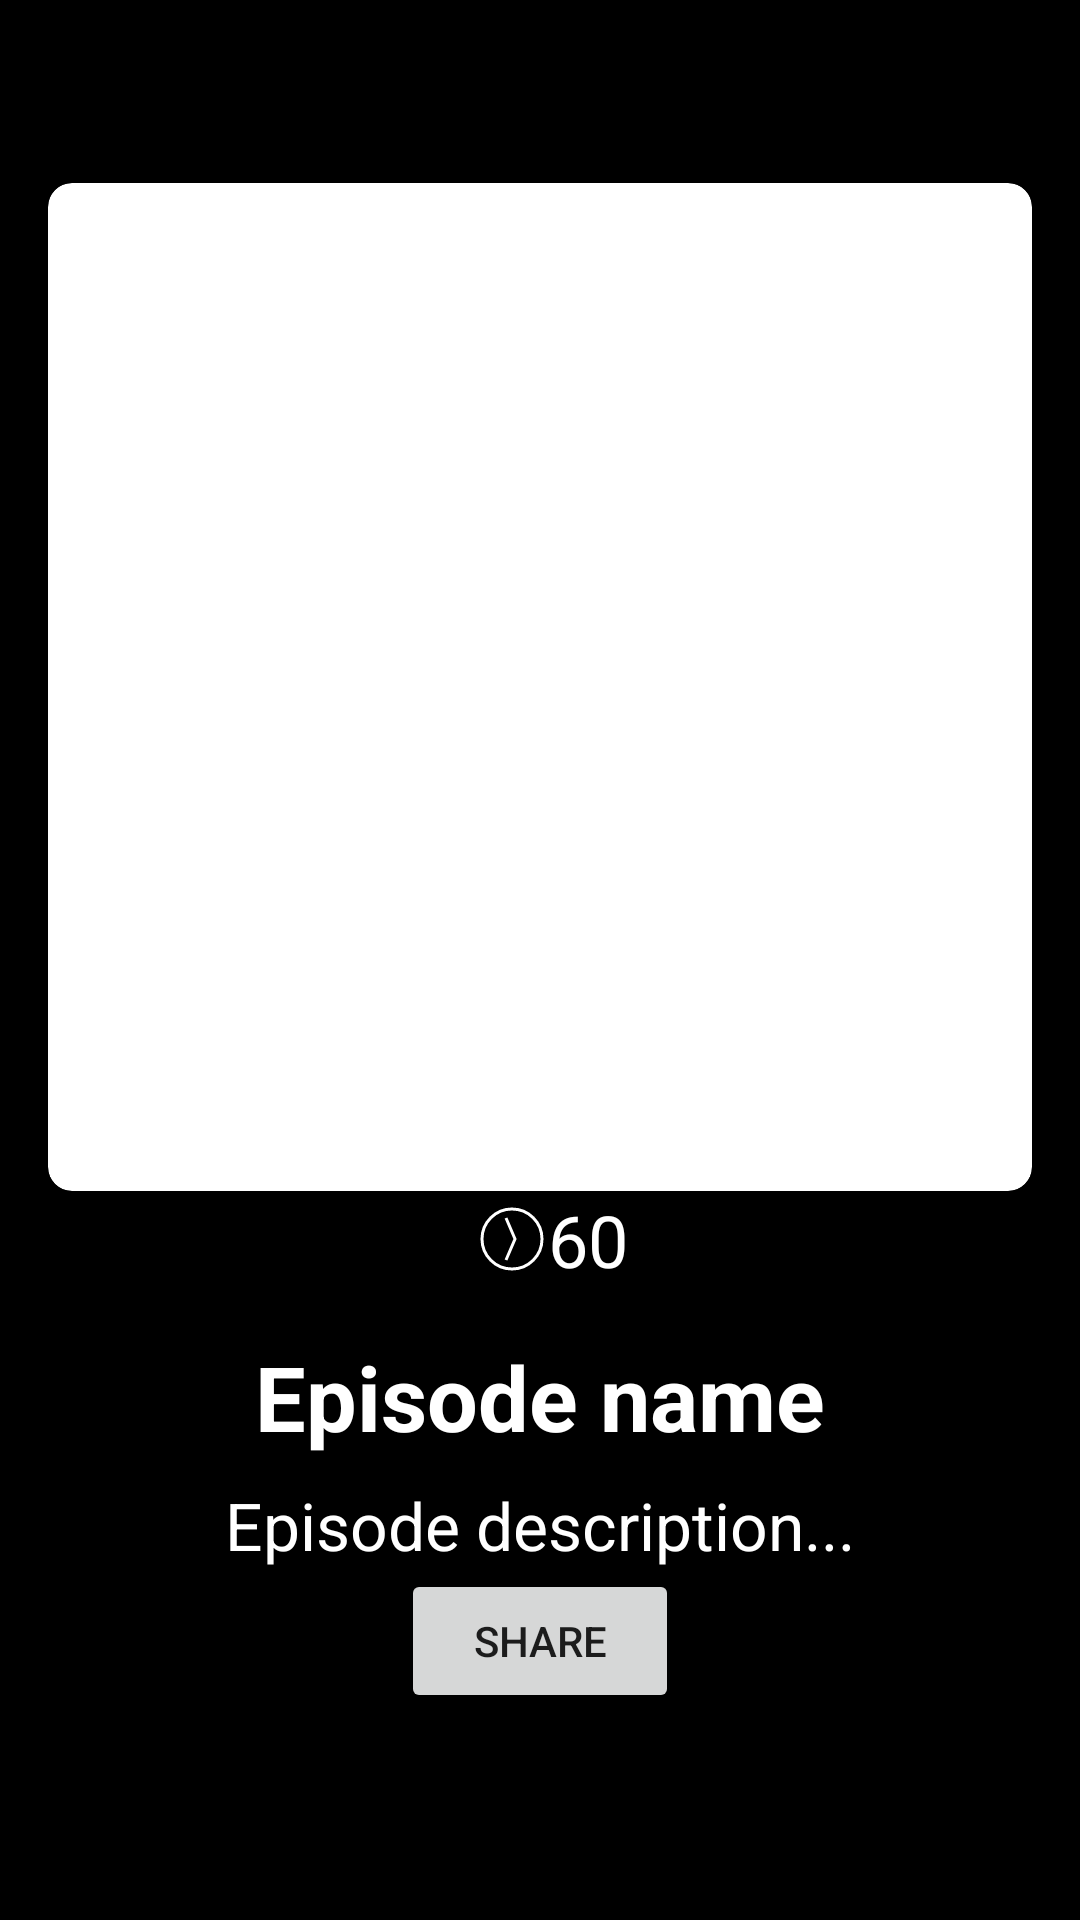

Screen size 1080 × 1920. Icon name, then its box in pixels as {"x1": x1, "y1": y1, "x2": x2, "y2": y2}:
time: {"x1": 480, "y1": 1207, "x2": 544, "y2": 1271}
